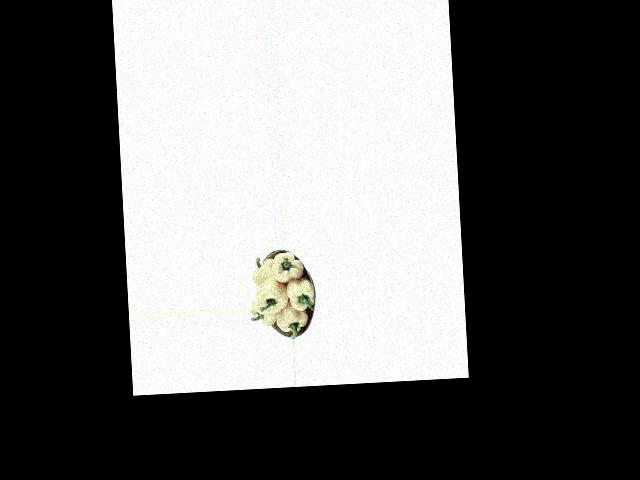bell_pepper: (250, 299, 279, 329)
